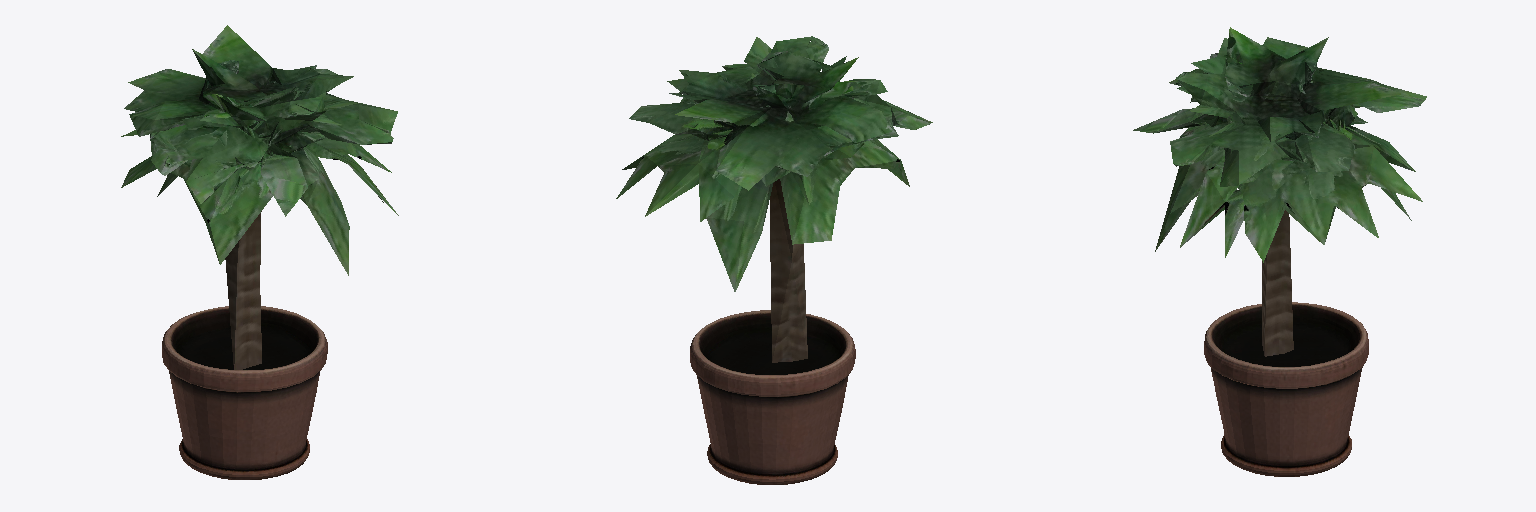
3 views of the same model, side by side, from view 1: azimuth 30°, elevation 25°; view 2: azimuth 150°, elevation 25°; view 3: azimuth 270°, elevation 25° (orthographic).
Parts seen in each view (by area): view 1: dfc217613f_flowerpot__3d_asset:Mesh1; view 2: dfc217613f_flowerpot__3d_asset:Mesh1; view 3: dfc217613f_flowerpot__3d_asset:Mesh1.
Part boxes in pixels (bbox=[...]): dfc217613f_flowerpot__3d_asset:Mesh1: bbox=[121, 25, 398, 479]; dfc217613f_flowerpot__3d_asset:Mesh1: bbox=[616, 36, 932, 484]; dfc217613f_flowerpot__3d_asset:Mesh1: bbox=[1133, 27, 1426, 476].
Size of the model in its own units: 1.81 by 2.66 by 1.79.
2 materials, 2 textured.